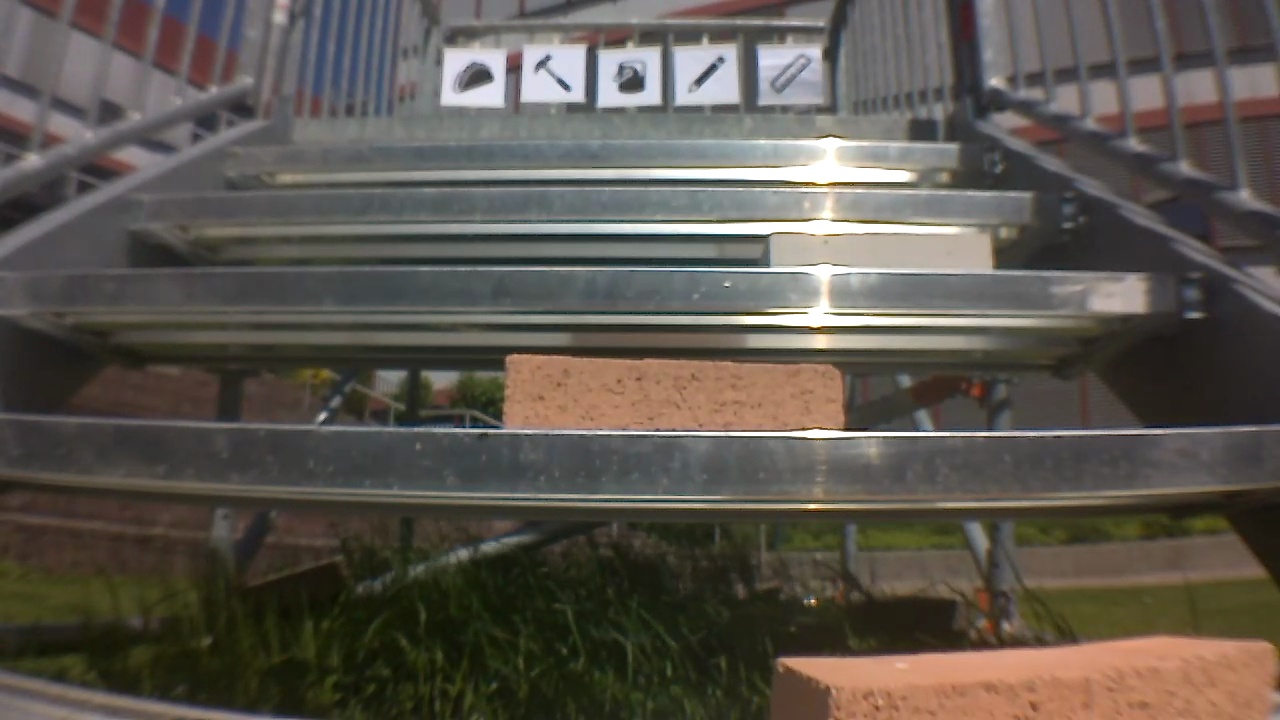brick: (774, 641, 1280, 720), (496, 361, 846, 433), (763, 219, 996, 267)
bucket: (607, 54, 650, 92)
edge: (0, 422, 1278, 495), (0, 263, 1215, 313), (109, 188, 1090, 224), (212, 141, 1003, 168), (296, 118, 947, 139)
hammer: (529, 47, 577, 98)
pencil: (684, 51, 732, 93)
ruler: (767, 52, 813, 97)
steps: (7, 103, 1280, 720)
taco: (451, 57, 496, 95)
